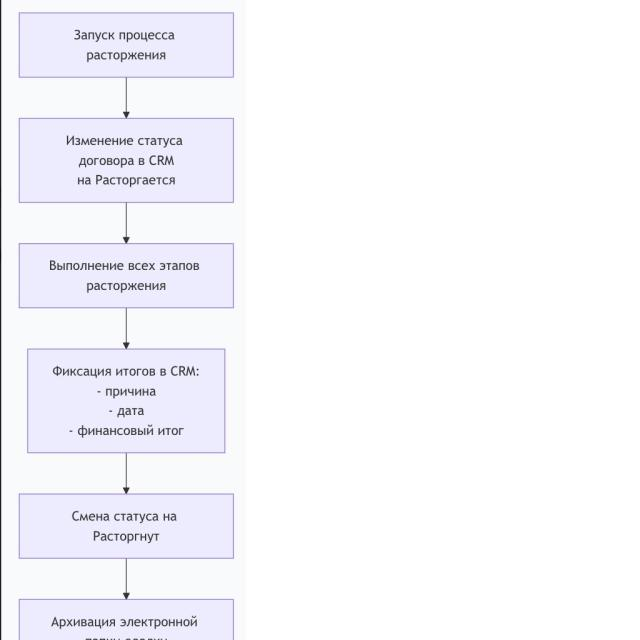arrow: (119, 201, 134, 246), (119, 558, 133, 602), (119, 450, 132, 496), (120, 306, 132, 350), (119, 76, 131, 118)
